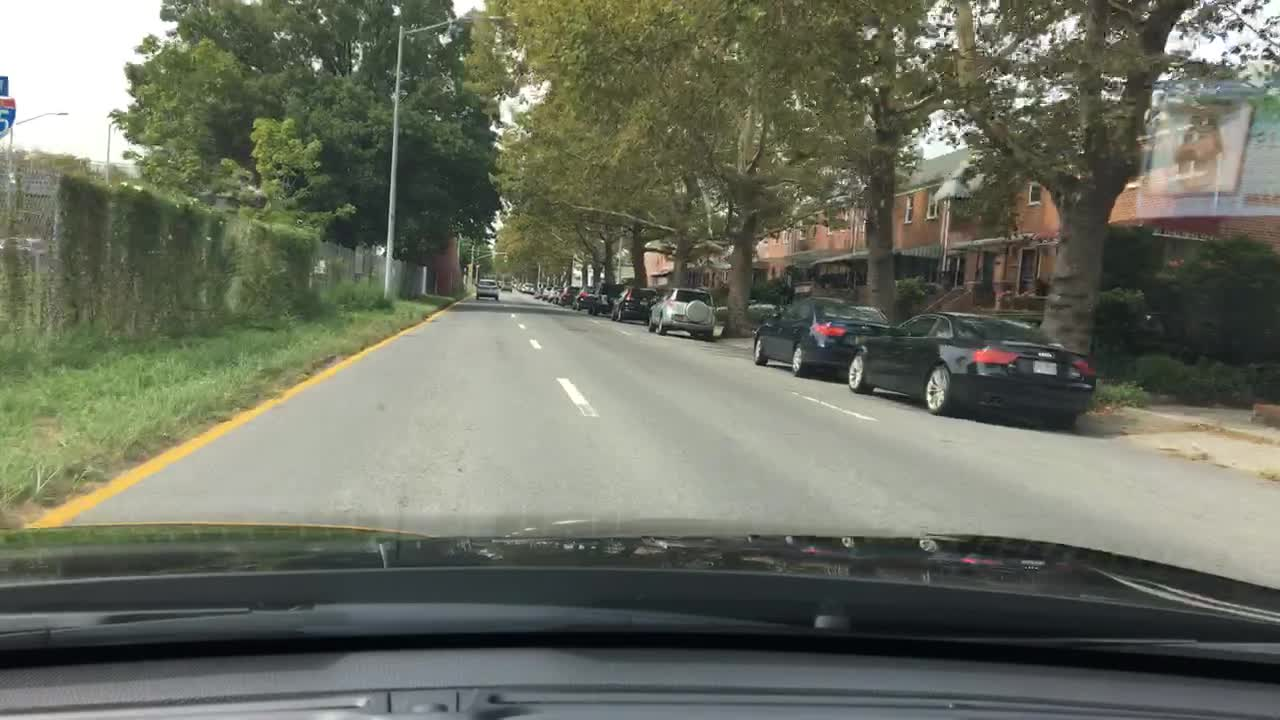car: (848, 310, 1095, 427), (752, 296, 890, 380), (650, 284, 716, 340), (611, 284, 659, 322), (587, 282, 620, 317), (474, 277, 499, 300), (557, 284, 578, 305), (575, 288, 591, 311), (547, 286, 565, 304), (531, 285, 548, 301), (541, 285, 554, 302), (521, 283, 535, 295), (502, 281, 512, 293)
traffic sign: (0, 97, 15, 139), (0, 74, 8, 95)
